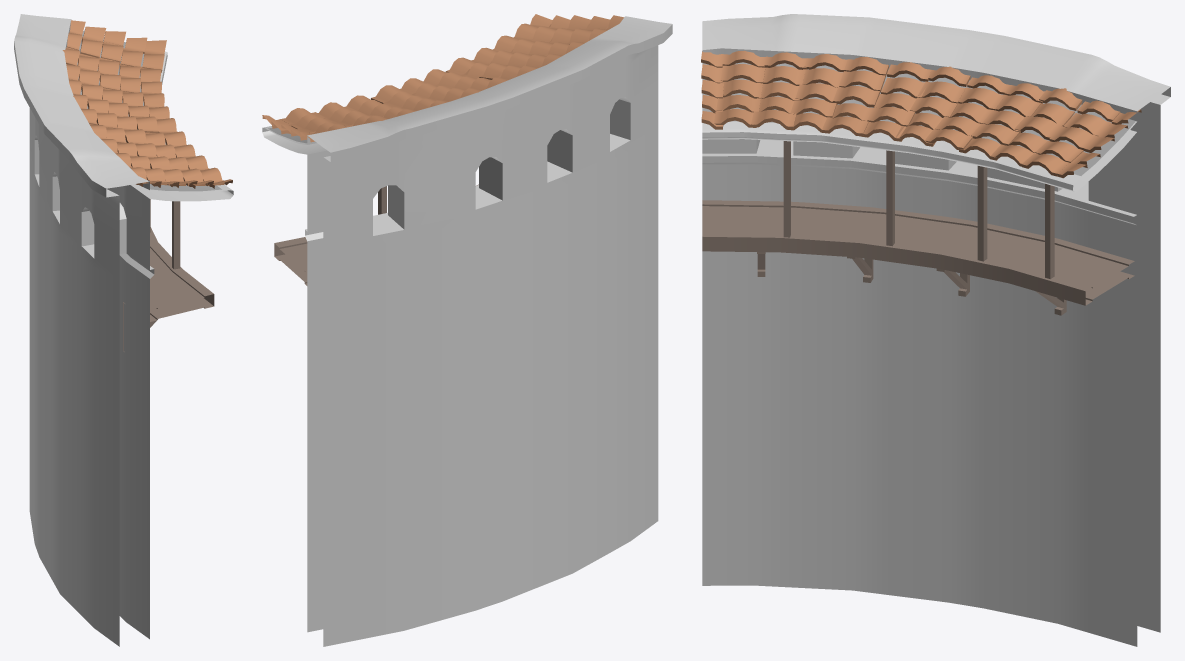
Rendered from SM_WallCurved.fbx.
3 views of the same model, side by side, from view 1: azimuth 30°, elevation 25°; view 2: azimuth 150°, elevation 25°; view 3: azimuth 270°, elevation 25° (orthographic). The views are drawn at different scales.
Visible parts, largest first — view 1: Wall, MASH3_ReproMesh, Walkway, SupportBeam, roofguideCurve; view 2: Wall, MASH3_ReproMesh, Walkway; view 3: Wall, MASH3_ReproMesh, Walkway, roofguideCurve, SupportBeam2, SupportBeam3, SupportBeam1, SupportBeam.
Boxes of the visible parts, x1,y1,x2,y2 form: Wall: (14, 14, 233, 646); MASH3_ReproMesh: (62, 20, 232, 188); Walkway: (150, 227, 214, 321); SupportBeam: (172, 201, 180, 269); roofguideCurve: (77, 31, 221, 191); Wall: (262, 16, 672, 646); MASH3_ReproMesh: (262, 14, 623, 142); Walkway: (274, 184, 478, 285); Wall: (702, 14, 1170, 646); MASH3_ReproMesh: (701, 50, 1141, 178); Walkway: (702, 200, 1134, 305); roofguideCurve: (702, 62, 1135, 175); SupportBeam2: (977, 166, 987, 261); SupportBeam3: (1045, 183, 1054, 278); SupportBeam1: (886, 150, 894, 246); SupportBeam: (783, 141, 790, 237).
Size of the model in its own units: 559 by 1126 by 873.
